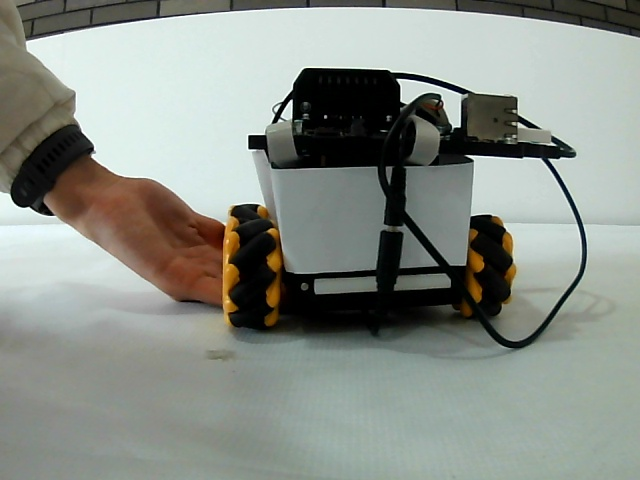car: (227, 69, 516, 325)
paper: (272, 168, 471, 270)
